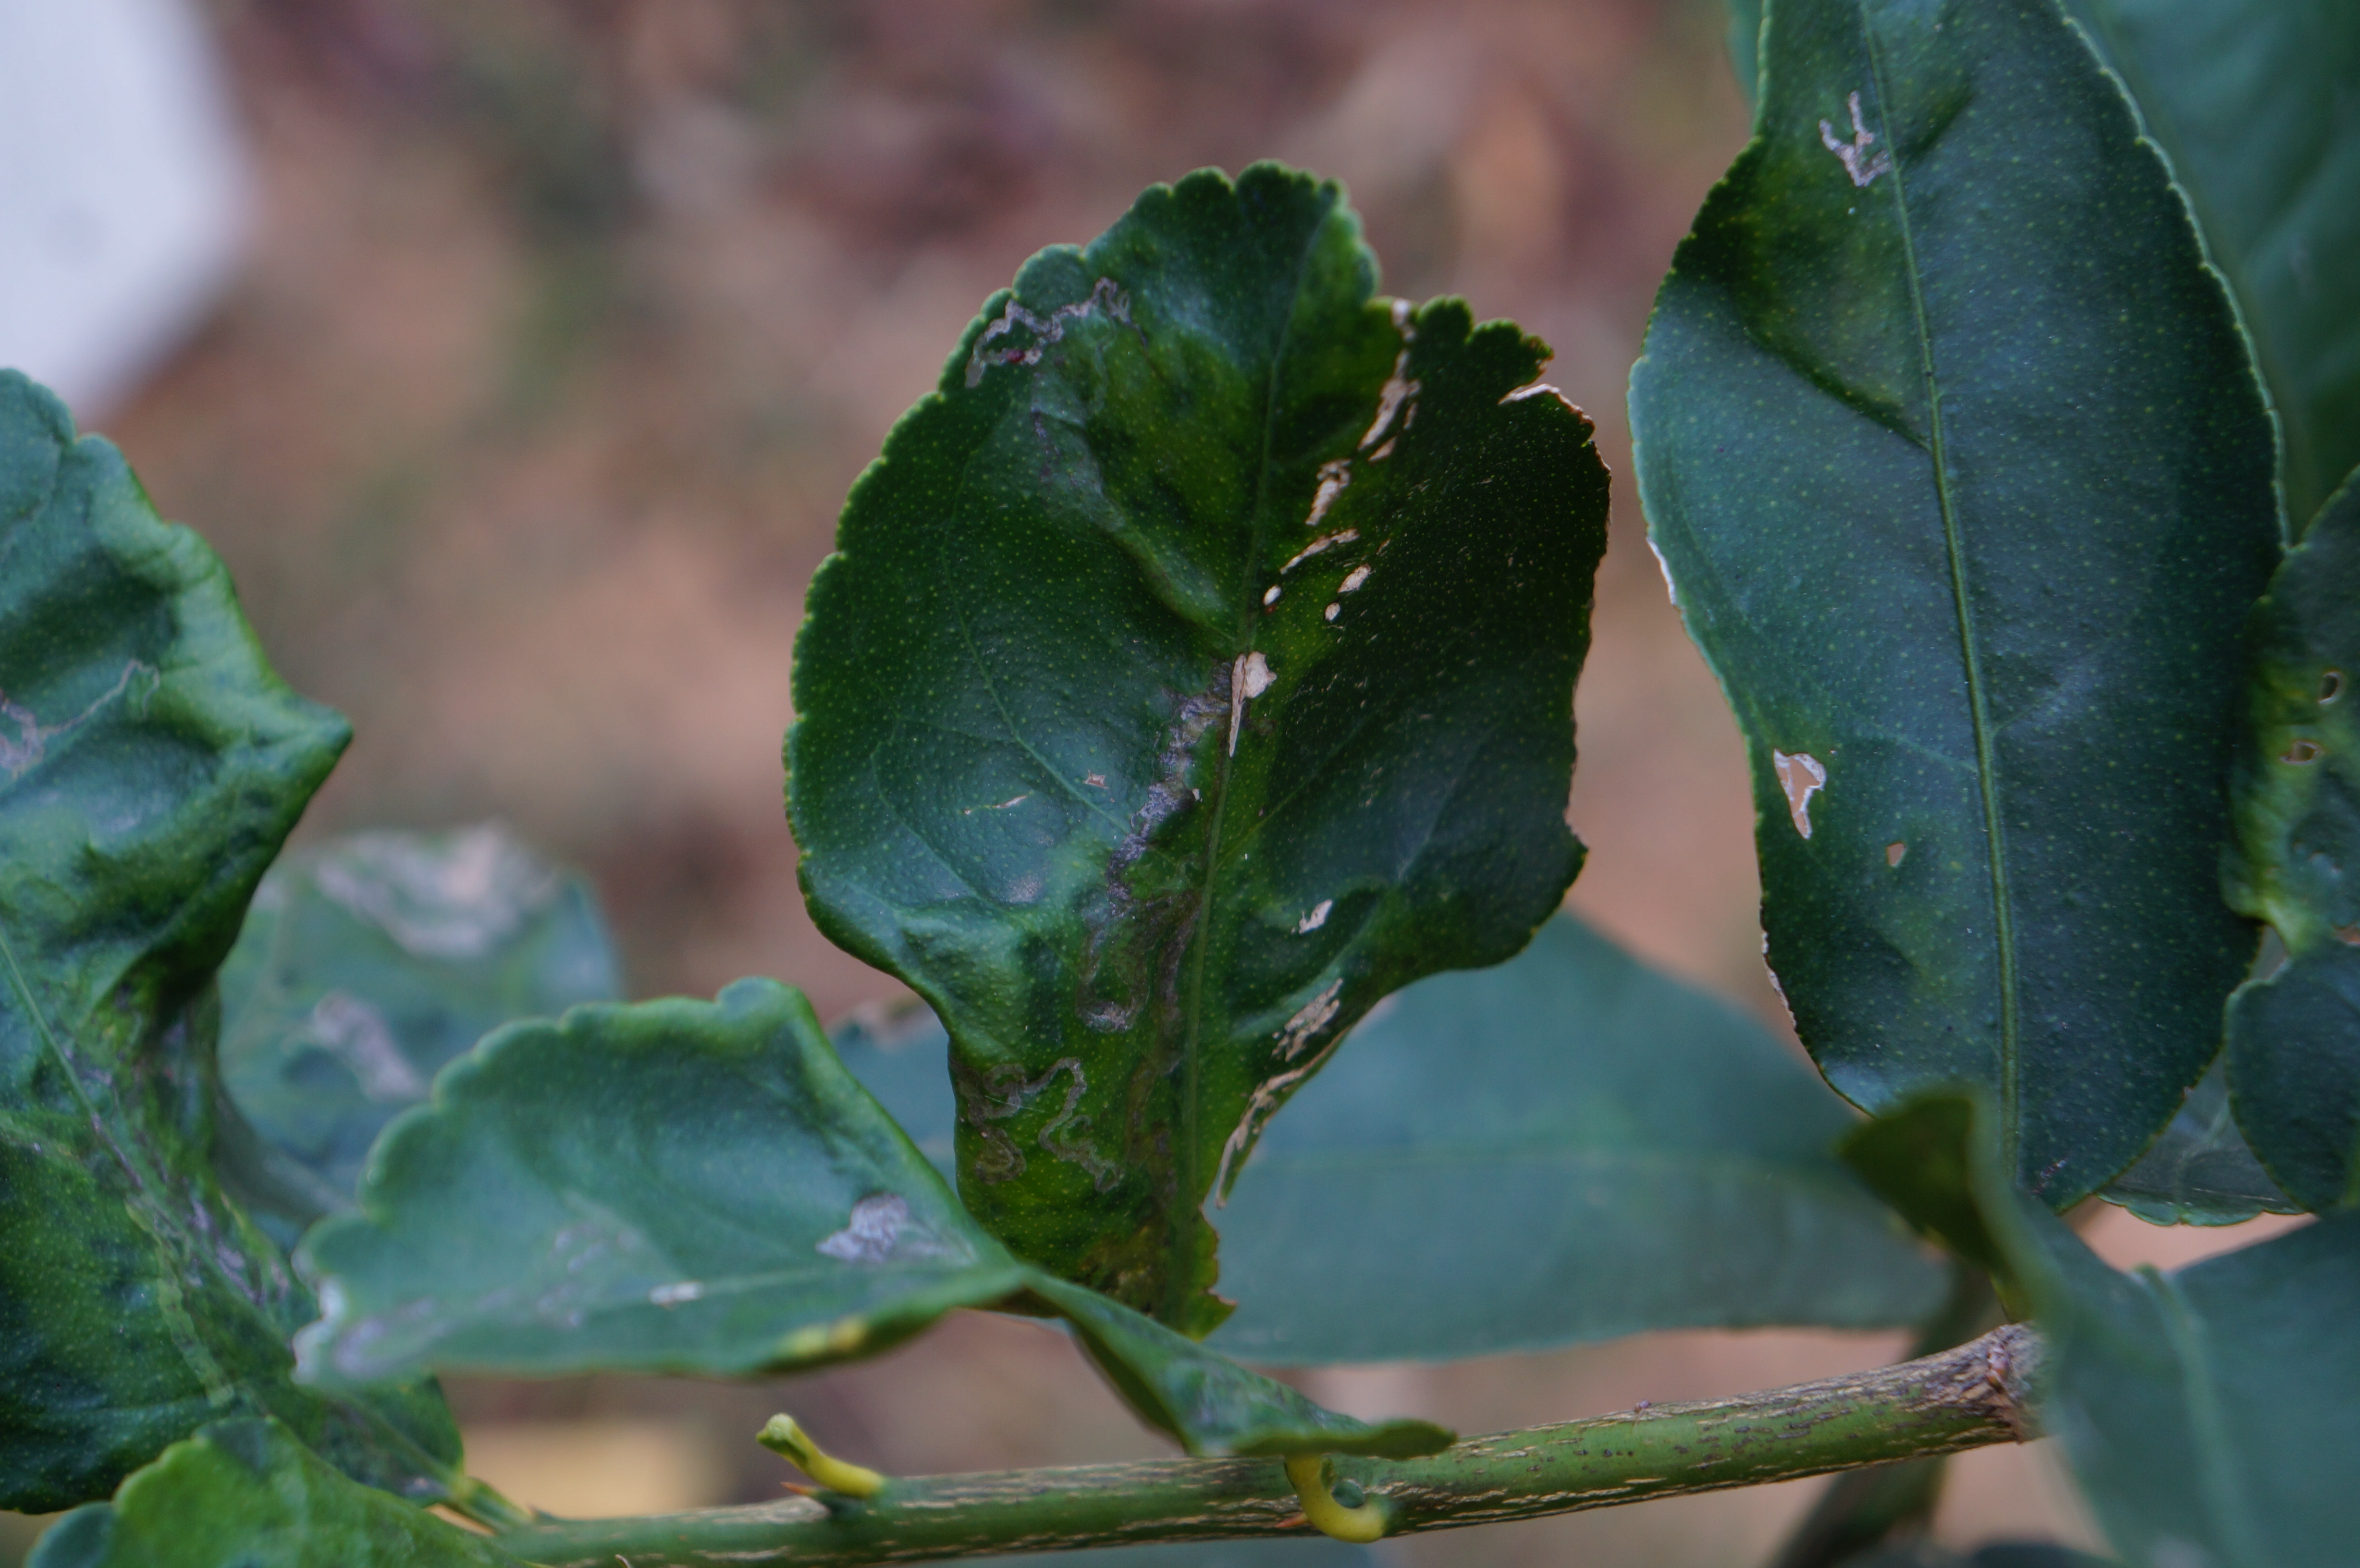curly: (0, 313, 553, 1554)
damage: (1107, 632, 1240, 1069), (931, 222, 1162, 436)
